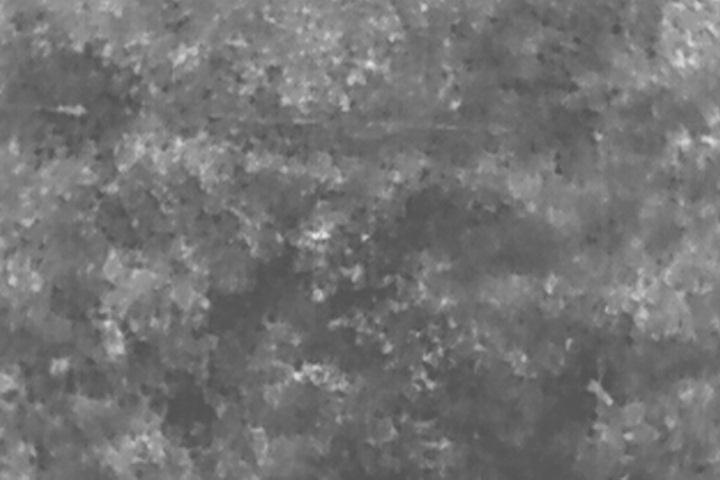landmine: (310, 228, 330, 242)
